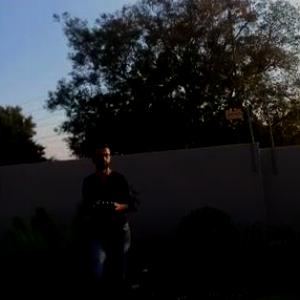follow: (76, 137, 140, 299)
